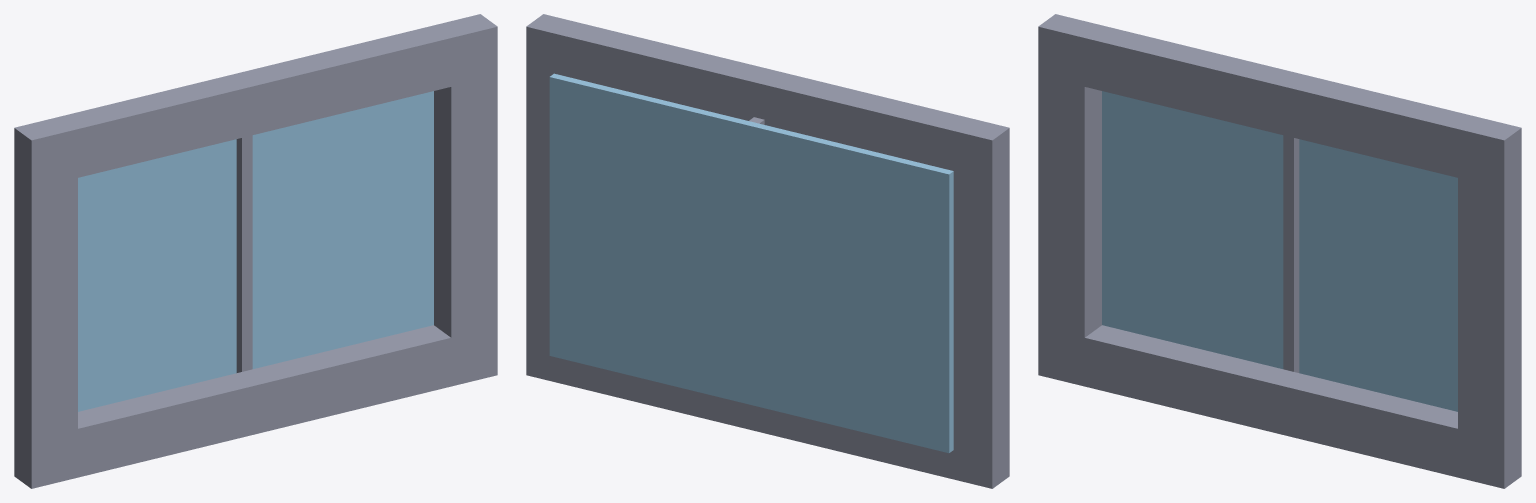
File: window-classic.glb
3 renders of one model, left to right at view 1: azimuth 30°, elevation 25°; view 2: azimuth 150°, elevation 25°; view 3: azimuth 330°, elevation 25°, orthographic.
Parts seen in each view (by area): view 1: window-classic; view 2: window-classic; view 3: window-classic.
Part boxes in pixels (bbox=[...]): window-classic: bbox=[14, 14, 497, 488]; window-classic: bbox=[526, 14, 1009, 488]; window-classic: bbox=[1038, 14, 1521, 488].
Size of the model in its own units: 0.7 by 0.5 by 0.071.
Materials: 1 (1 with a texture image).
